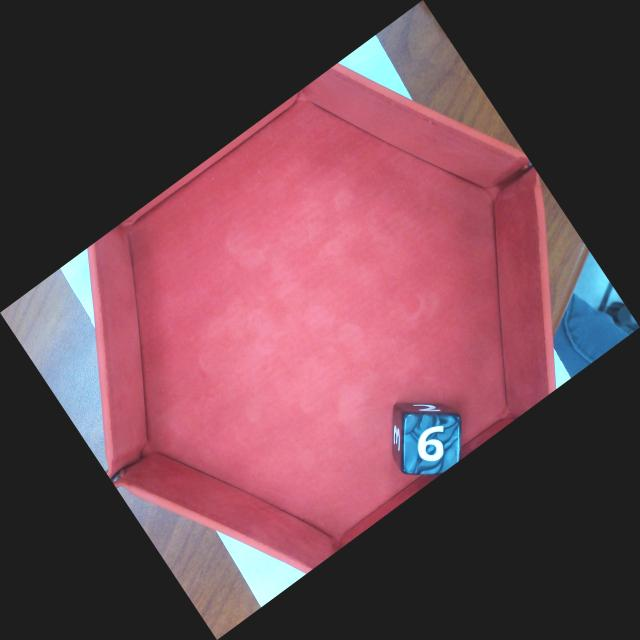dice: (402, 407, 463, 476)
